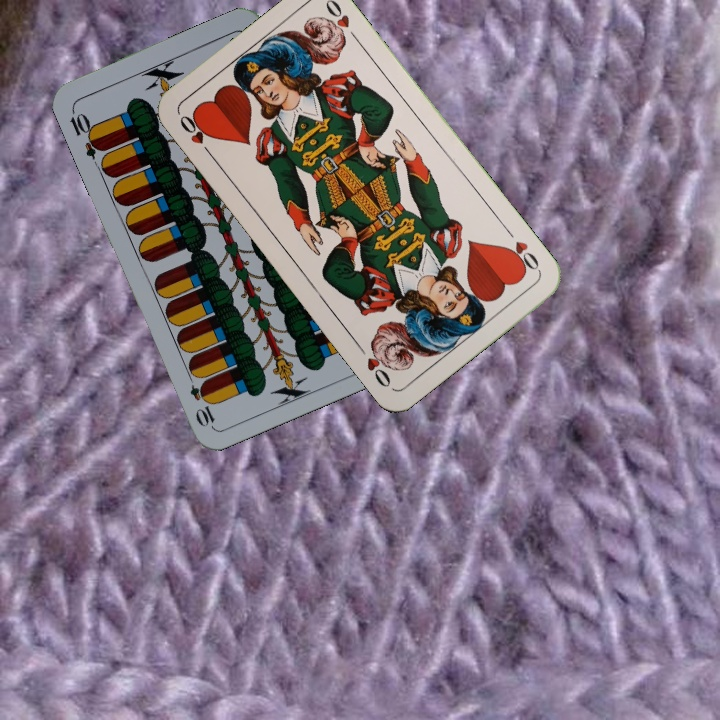E10: (66, 105, 107, 161)
HO: (500, 224, 543, 275), (175, 110, 217, 161)
